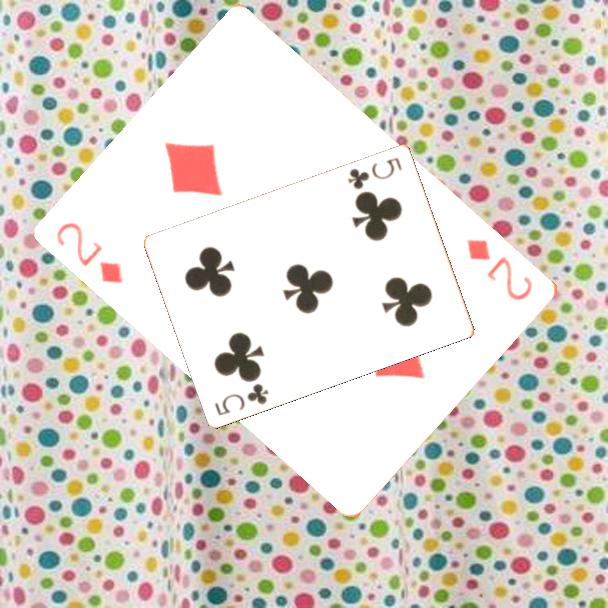c05: (211, 379, 272, 418), (344, 154, 405, 192)
d02: (463, 235, 537, 304), (53, 218, 127, 287)
